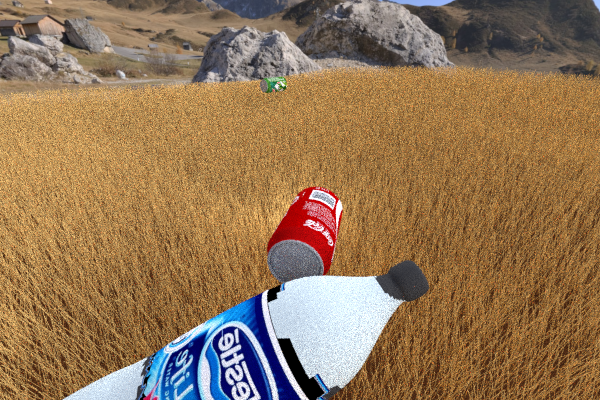bottle: (0, 258, 434, 400)
can: (393, 92, 439, 117), (365, 80, 384, 102)
